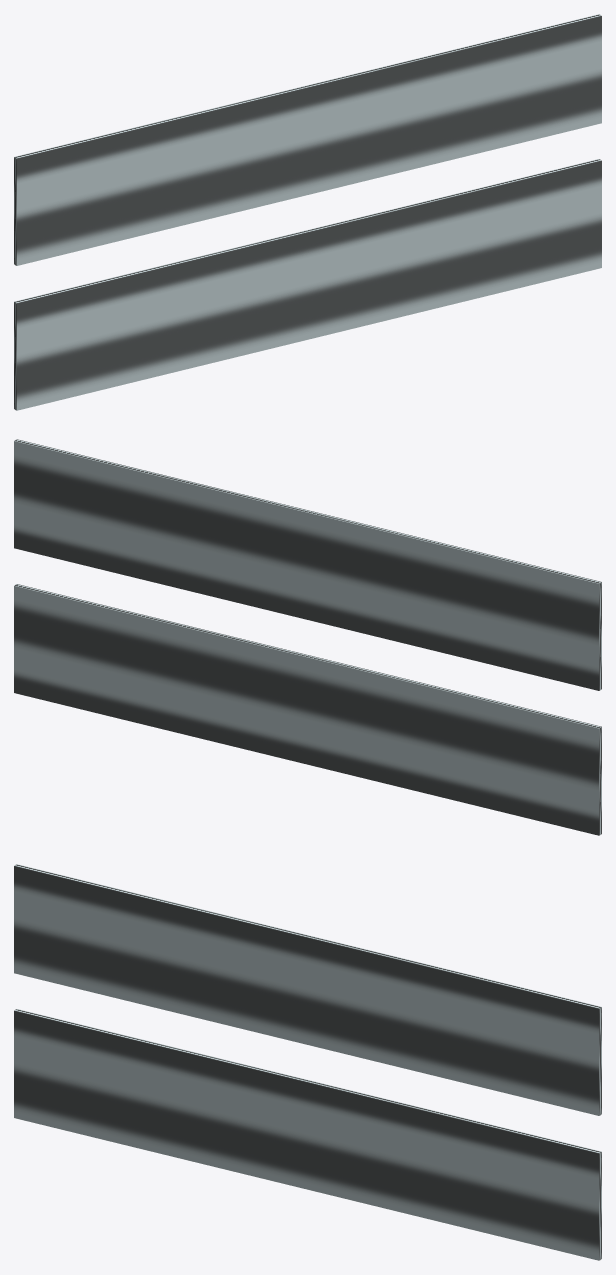
File: prop_barrier_2M.FBX
3 views of the same model, one above another, from view 1: azimuth 30°, elevation 25°; view 2: azimuth 150°, elevation 25°; view 3: azimuth 330°, elevation 25° (orthographic).
Parts seen in each view (by area): view 1: prop_barrier_2M; view 2: prop_barrier_2M; view 3: prop_barrier_2M.
Boxes of the visible parts, box(x1,y1,x2,y2) form: prop_barrier_2M: box(14, 14, 601, 410); prop_barrier_2M: box(14, 439, 601, 835); prop_barrier_2M: box(14, 864, 601, 1260).
Bounding box in the file's own units: 78.74 × 32.38 × 0.6246.
1 material, 1 textured.
